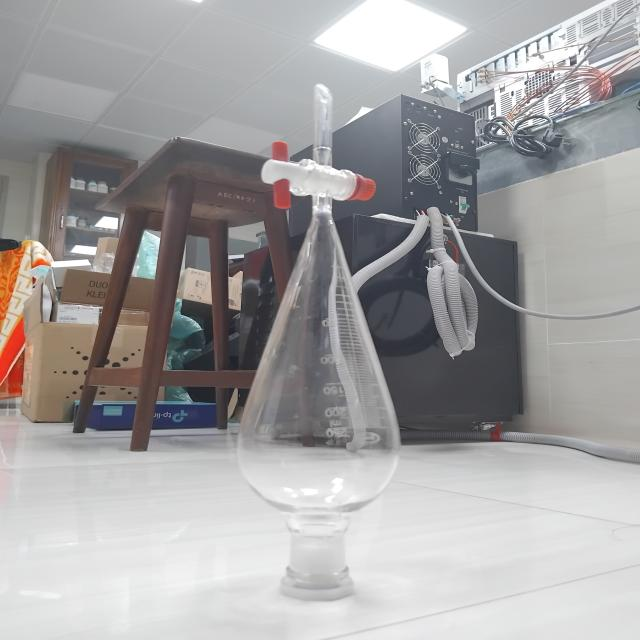Separating_Funnel: (215, 52, 440, 615)
